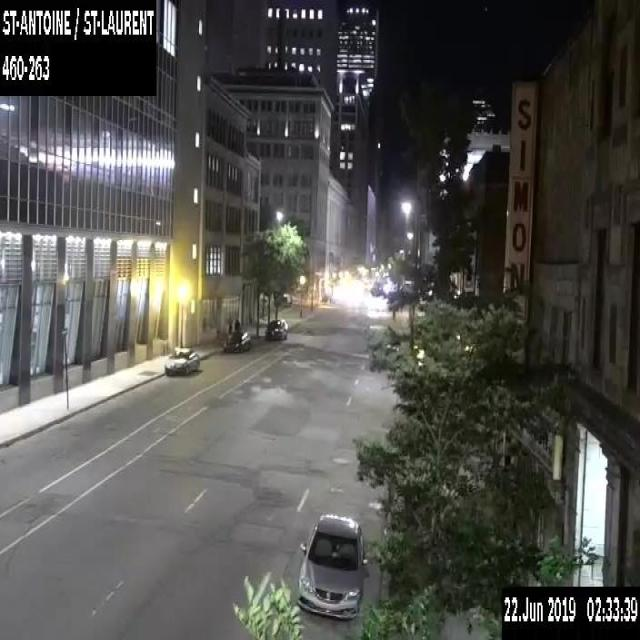pedestrian: (227, 316, 232, 333), (234, 318, 239, 329)
vehicle: (296, 511, 368, 617), (163, 346, 200, 374), (222, 328, 250, 352), (264, 318, 288, 340)
